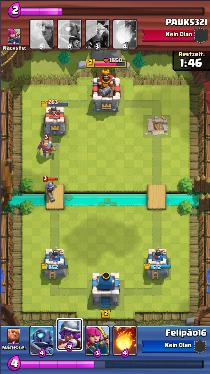enemy_knight: (35, 139, 58, 158)
enemy_musketeer: (43, 181, 56, 202)
